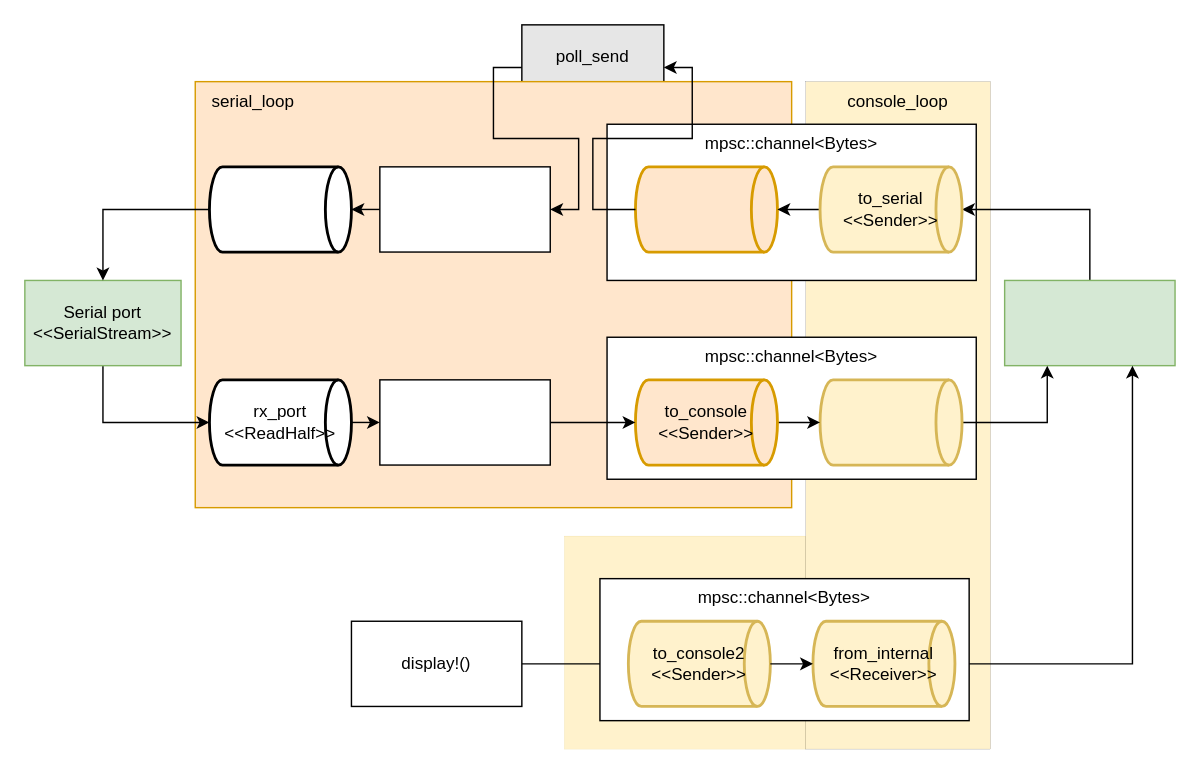
Image size: 1200x774. Some labels were removed from this diagram. The shapes that lost their labels are listed below. From the top down, each one's box as (x1, y1, x2, y2) in pixels, then its label:
(207, 165, 352, 253): tx_port <<WriteHalf>>
(378, 165, 550, 252): serial_sink <<FramedWrite>>
(633, 165, 778, 253): from_console <<Receiver>>
(1003, 279, 1175, 366): Console <<Crossterm>>
(378, 378, 550, 465): serial_reader <<FramedRead>>
(818, 378, 963, 466): from_serial <<Receiver>>
